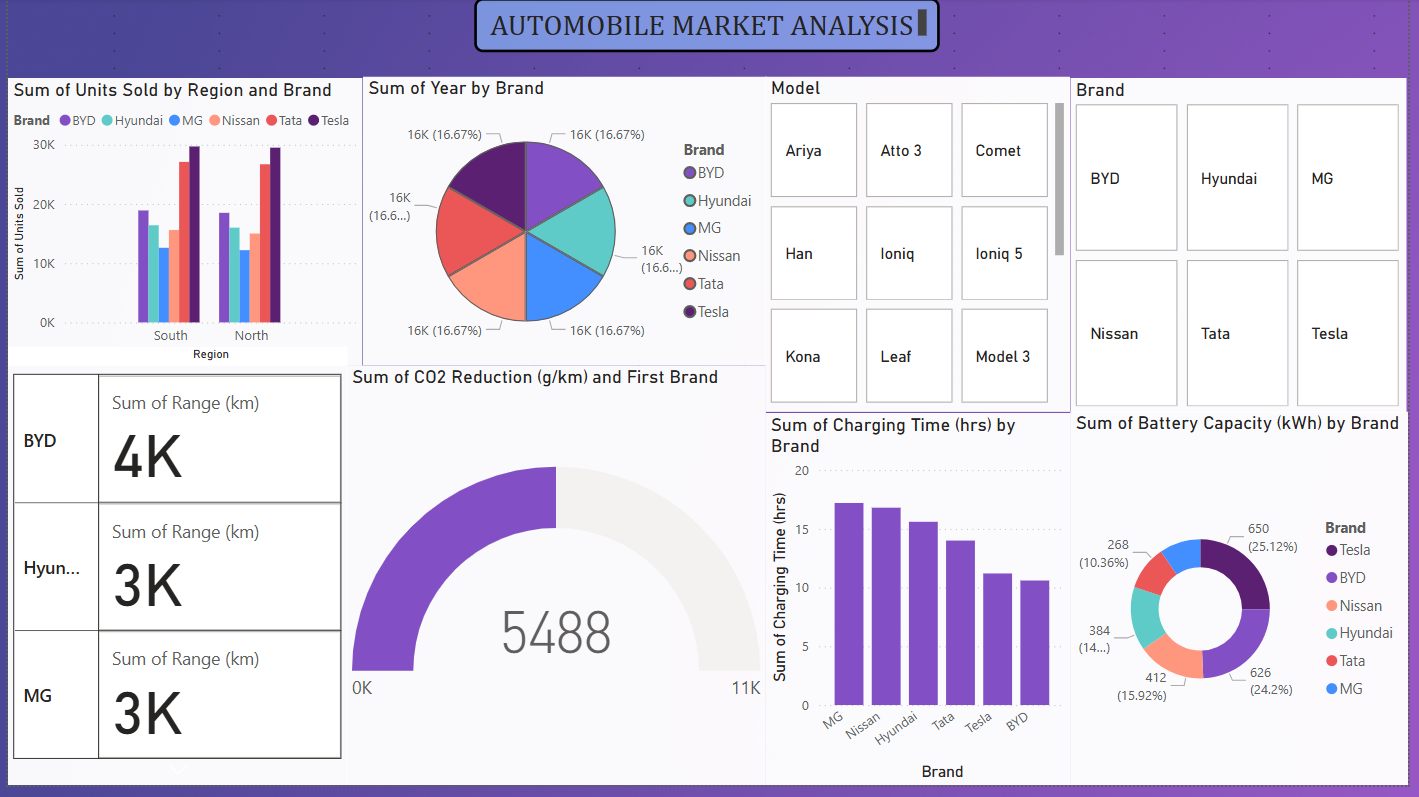

What the dashboard file says about the page in this screenshot:
{"tool":"powerbi","page":{"name":"Page 1","canvas":[1280,720],"ordinal":0},"visuals":[{"type":"textbox","box":[426.8,0,425.4,49.4],"z":0},{"type":"pieChart","fields":{"Category":["Sheet1.Brand"],"Y":["Sum(Sheet1.Year)"]},"box":[324.2,72.3,369,264.3],"z":1000},{"type":"donutChart","fields":{"Category":["Sheet1.Brand"],"Y":["Sum(Sheet1.Battery Capacity (kWh))"]},"box":[971.5,378.7,308.7,341.7],"z":2000},{"type":"gauge","fields":{"Y":["Sum(Sheet1.CO2 Reduction (g/km))"]},"box":[309.7,335.9,383.1,384.4],"z":3000},{"type":"advancedSlicerVisual","fields":{"Values":["Sheet1.Model"]},"box":[692.9,72.1,278.6,306],"z":4000},{"type":"cardVisual","fields":{"Rows":["Sheet1.Brand"],"Data":["Sum(Sheet1.Range (km))"]},"box":[0,318.4,310.1,402.1],"z":5000},{"type":"lineClusteredColumnComboChart","fields":{"Category":["Sheet1.Region"],"Y":["Sum(Sheet1.Units Sold)"],"Series":["Sheet1.Brand"]},"box":[0,72.7,323.8,263.5],"z":6000},{"type":"advancedSlicerVisual","fields":{"Values":["Sheet1.Brand"]},"box":[971.5,72.7,307.4,306],"z":7000},{"type":"clusteredColumnChart","fields":{"Y":["Sum(Sheet1.Charging Time (hrs))"],"Category":["Sheet1.Brand"]},"box":[693,379,279,341],"z":7001}]}

Visuals, with their boxes in screenshot pixels (x1, y1, x2, y2), scaled from the page's 1280x720 canvas onto the 1419x797 screenshot:
textbox: {"x1": 473, "y1": 0, "x2": 945, "y2": 55}
pieChart - Sheet1.Brand x Sum(Sheet1.Year): {"x1": 359, "y1": 80, "x2": 768, "y2": 373}
donutChart - Sheet1.Brand x Sum(Sheet1.Battery Capacity (kWh)): {"x1": 1077, "y1": 419, "x2": 1418, "y2": 796}
gauge - Sum(Sheet1.CO2 Reduction (g/km)): {"x1": 343, "y1": 372, "x2": 768, "y2": 796}
advancedSlicerVisual - Sheet1.Model: {"x1": 768, "y1": 80, "x2": 1077, "y2": 419}
cardVisual - Sheet1.Brand x Sum(Sheet1.Range (km)): {"x1": 0, "y1": 352, "x2": 344, "y2": 796}
lineClusteredColumnComboChart - Sheet1.Region x Sum(Sheet1.Units Sold): {"x1": 0, "y1": 80, "x2": 359, "y2": 372}
advancedSlicerVisual - Sheet1.Brand: {"x1": 1077, "y1": 80, "x2": 1418, "y2": 419}
clusteredColumnChart - Sum(Sheet1.Charging Time (hrs)) x Sheet1.Brand: {"x1": 768, "y1": 420, "x2": 1078, "y2": 796}
